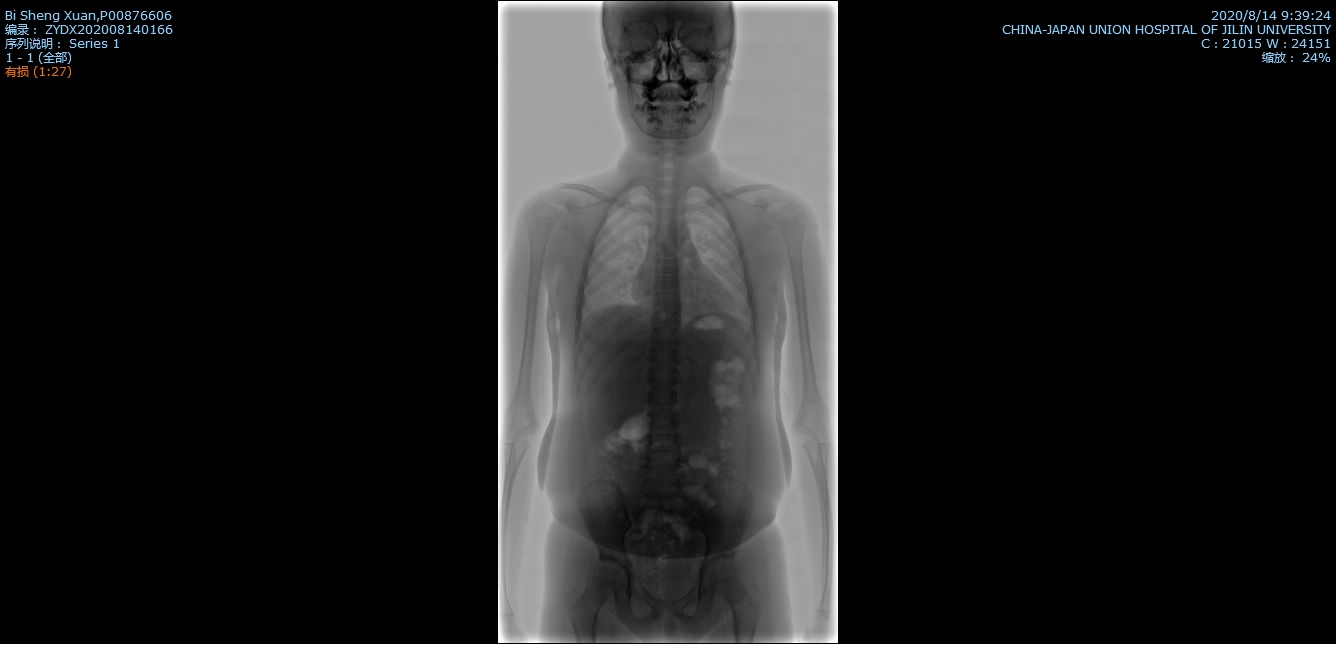Bone: (650, 455, 681, 472), (650, 411, 678, 429), (652, 345, 678, 362), (650, 368, 677, 384), (650, 436, 680, 450), (649, 392, 677, 406), (652, 327, 680, 340), (655, 292, 680, 306), (654, 310, 680, 322), (656, 276, 678, 290), (655, 258, 678, 271)
